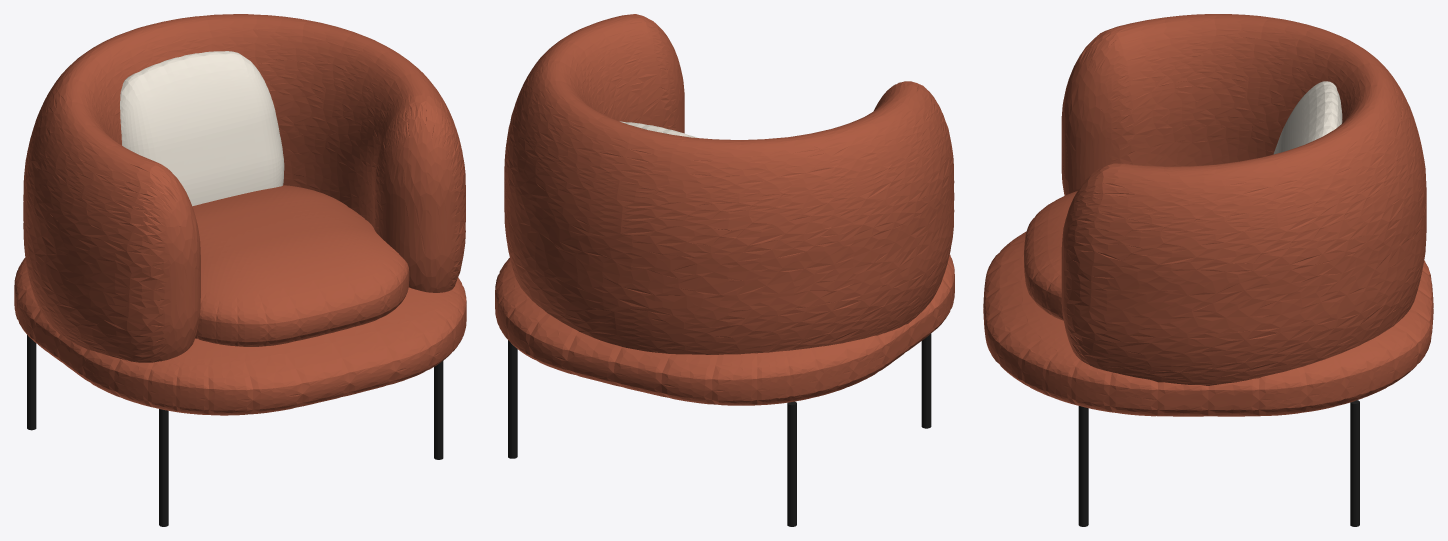
Rendered from cove.glb.
3 views of the same model, side by side, from view 1: azimuth 30°, elevation 25°; view 2: azimuth 150°, elevation 25°; view 3: azimuth 270°, elevation 25° (orthographic). The views are drawn at different scales.
Parts seen in each view (by area): view 1: shell, seat, base, pillow, leg0, leg1, leg2; view 2: shell, base, leg2, leg3, leg0; view 3: shell, base, seat, pillow, leg1, leg3.
Boxes of the visible parts, box(x1,y1,x2,y2) form: shell: box(23, 14, 465, 362); seat: box(192, 185, 409, 346); base: box(14, 257, 466, 415); pillow: box(120, 51, 284, 206); leg0: box(159, 409, 168, 526); leg1: box(434, 361, 443, 459); leg2: box(27, 335, 36, 430); shell: box(504, 14, 954, 354); base: box(495, 254, 954, 405); leg2: box(787, 401, 796, 526); leg3: box(508, 340, 517, 458); leg0: box(921, 333, 931, 428); shell: box(1061, 14, 1426, 385); base: box(983, 231, 1433, 416); seat: box(1024, 191, 1077, 320); pillow: box(1273, 81, 1342, 154); leg1: box(1078, 406, 1088, 526); leg3: box(1350, 400, 1359, 526).
Bounding box in the file's own units: 0.8378 × 0.7553 × 0.8291.
